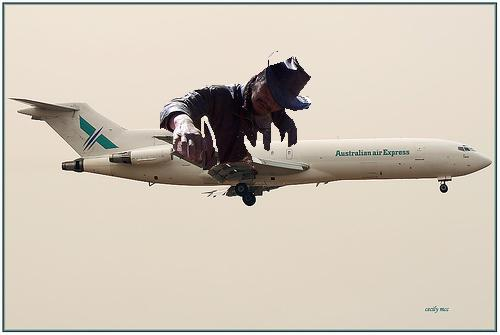tampered: (161, 52, 311, 175)
